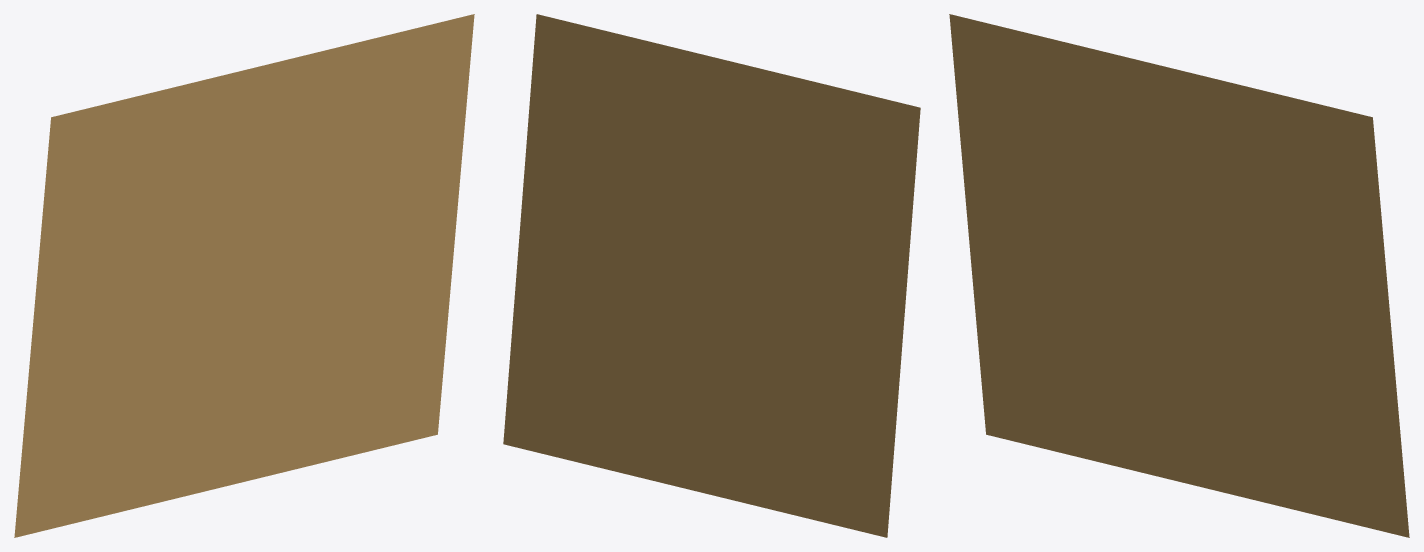
The model's file is pbr_morph.gltf.
The picture shows the model from 3 angles, left to right: view 1: azimuth 30°, elevation 25°; view 2: azimuth 150°, elevation 25°; view 3: azimuth 330°, elevation 25°; orthographic projection. The views are drawn at different scales.
Parts seen in each view (by area): view 1: Morph; view 2: Morph; view 3: Morph.
Part boxes in pixels (x1,y1,x2,y2): Morph: (14, 14, 474, 537); Morph: (503, 14, 920, 537); Morph: (949, 14, 1409, 537).
Bounding box in the file's own units: 2 × 2.02 × 0.3.
